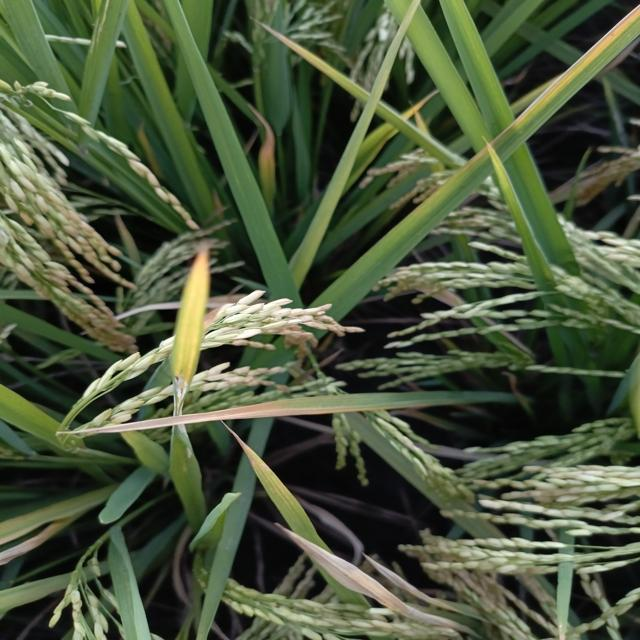Brown spot: (70, 392, 372, 443), (221, 421, 268, 468)
